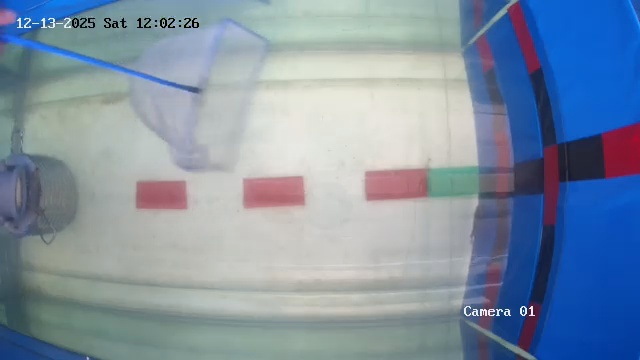fish: (468, 196, 492, 238)
